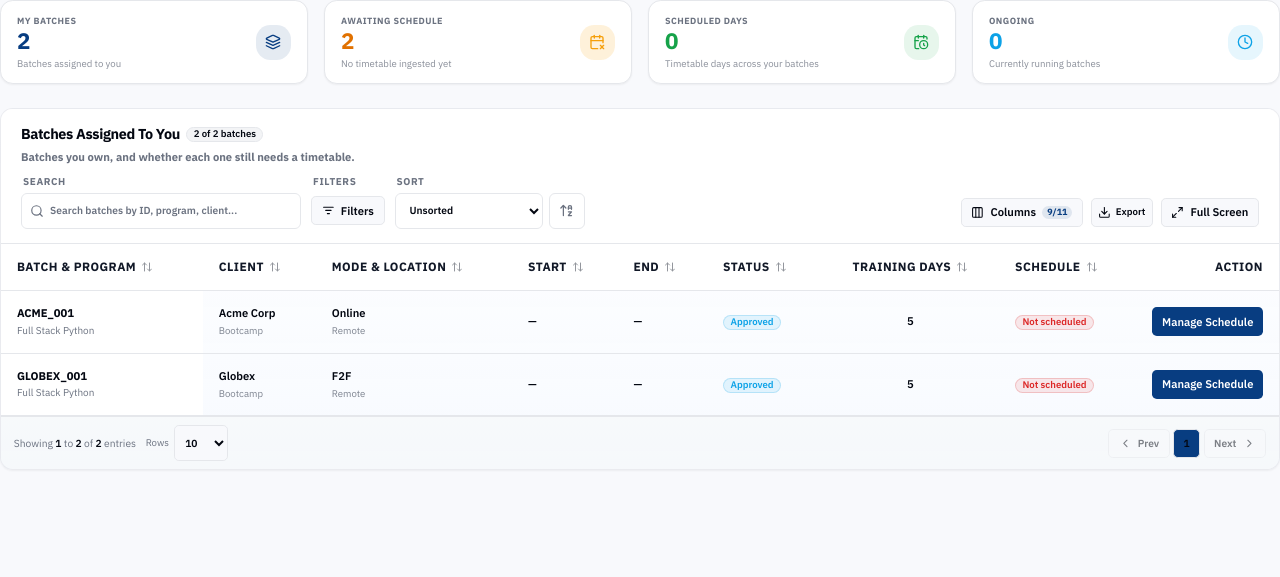
Test case: MyBatchesView filters › narrows rows by client
Click the button "Filters": (348, 211) [311,196,384,225]
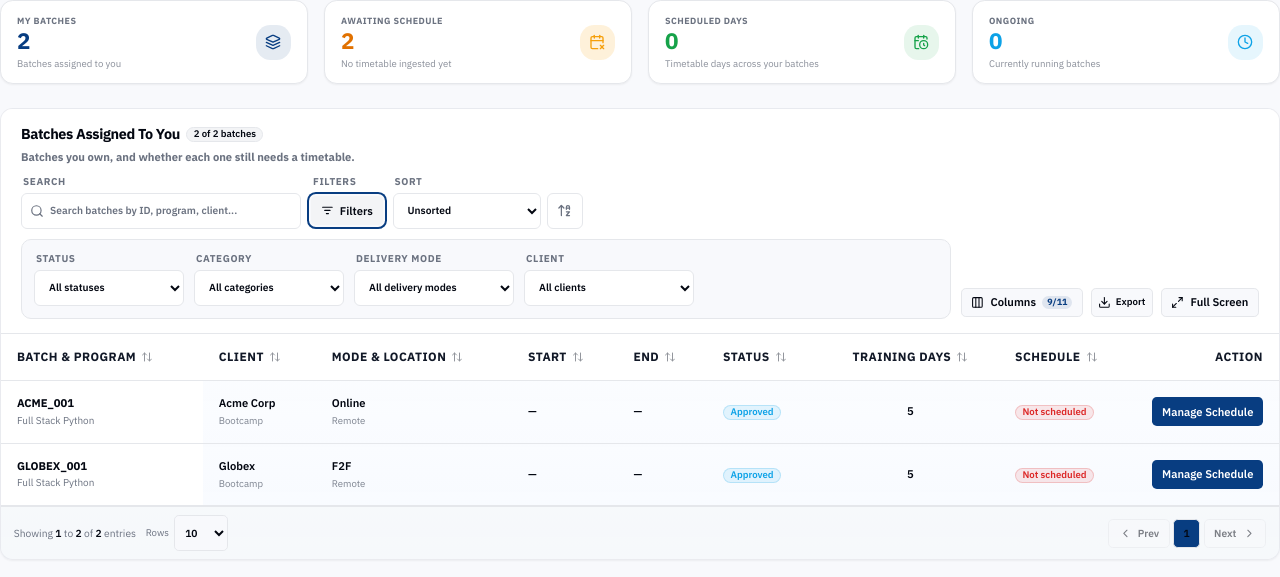
Select "Globex" in the dropdown labelled "Client": (609, 288) [524,270,694,306]
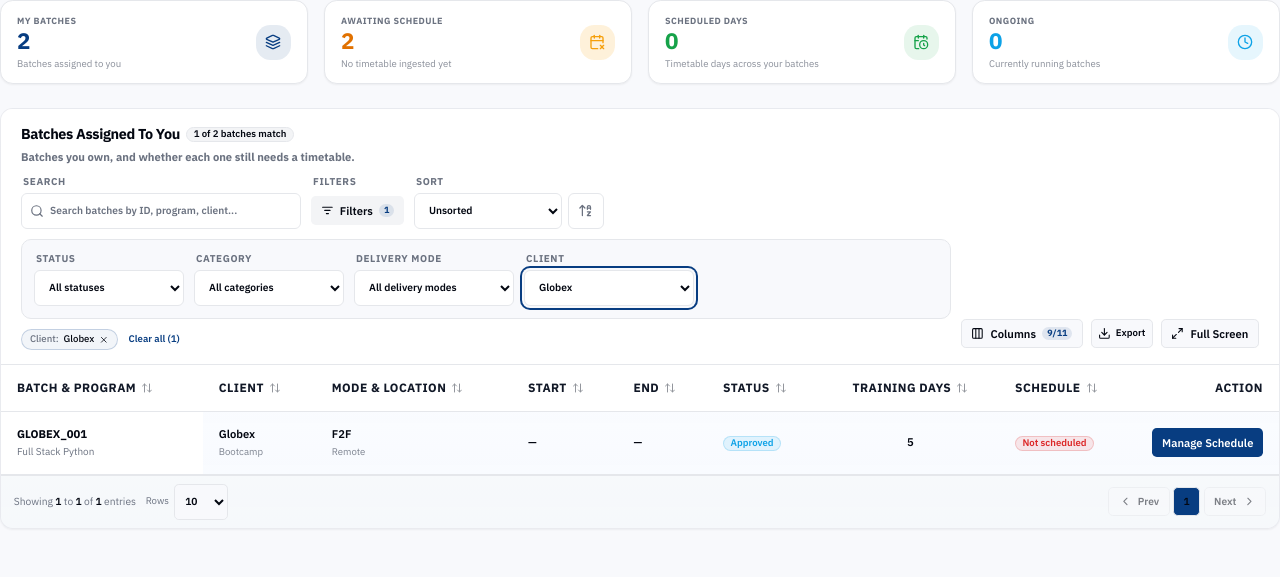
Check: the text "GLOBEX_001" is shown, box [17,427,87,441]
Check: the text "ACME_001" is gone
